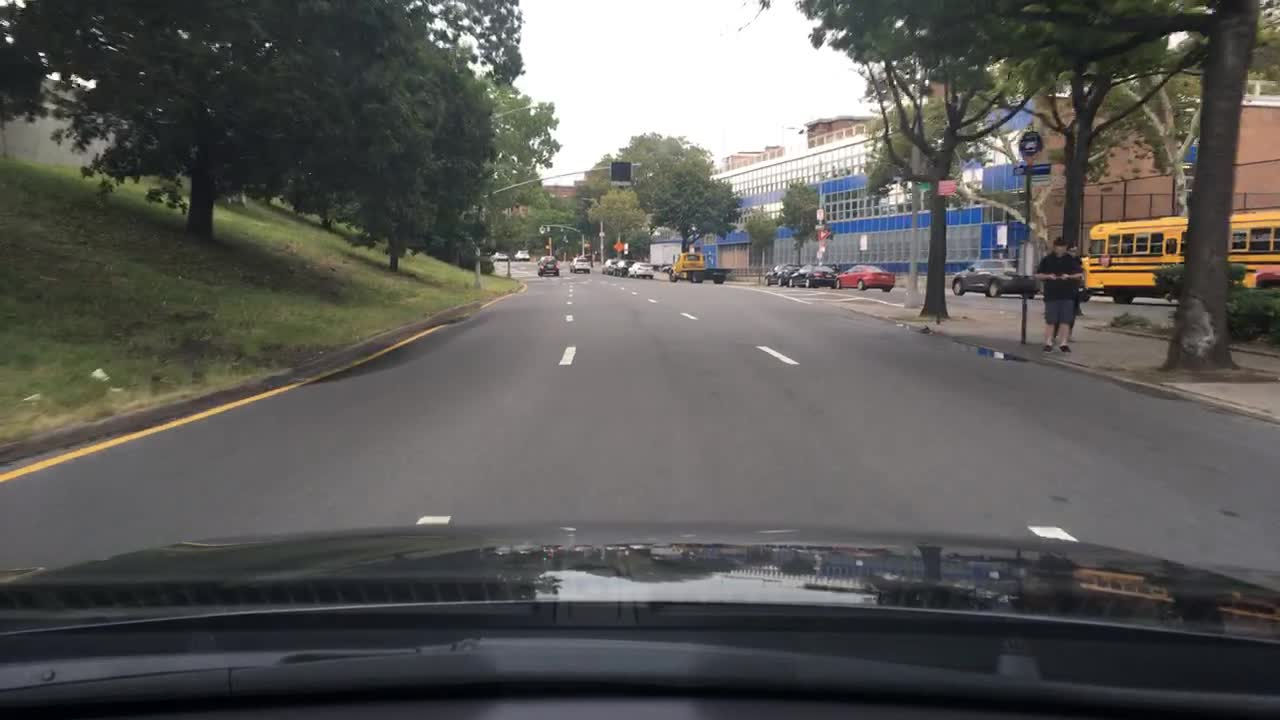bus: (1080, 207, 1279, 307)
car: (948, 255, 1036, 299), (833, 263, 896, 292), (786, 260, 833, 290), (764, 260, 798, 287), (624, 258, 658, 280), (535, 253, 562, 277), (1252, 266, 1279, 290), (611, 256, 633, 277), (565, 255, 590, 273), (599, 255, 616, 277), (511, 246, 531, 263), (491, 248, 508, 261)
person: (1031, 238, 1085, 356), (1048, 236, 1090, 342)
traffic sign: (1016, 130, 1041, 160), (1007, 165, 1049, 179), (935, 179, 955, 194), (813, 206, 827, 221), (611, 238, 624, 253), (813, 223, 827, 231)
truck: (666, 246, 732, 285)
